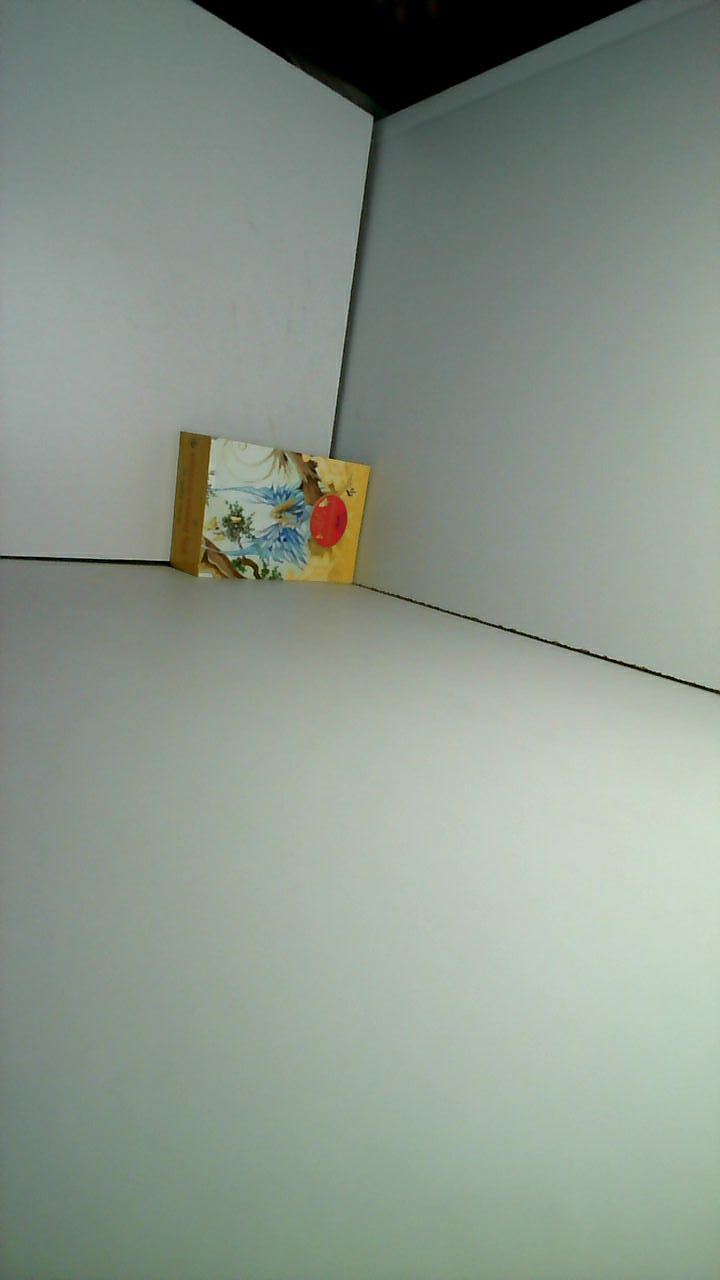book: (146, 405, 401, 612)
